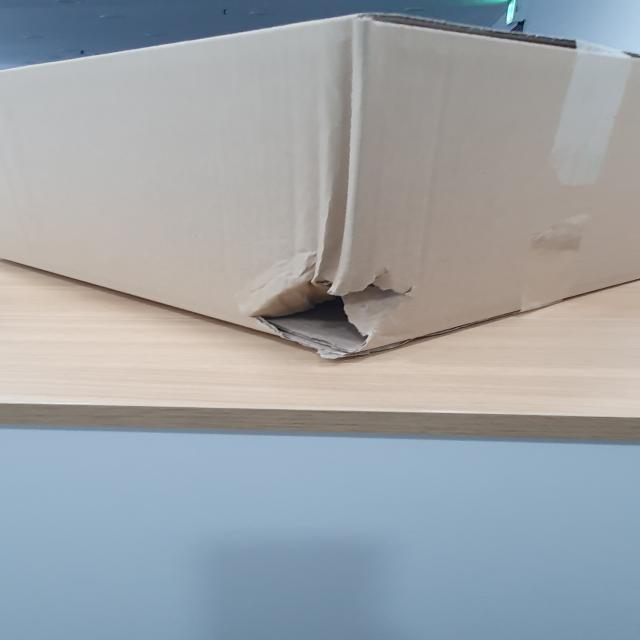hole: (238, 272, 419, 360)
